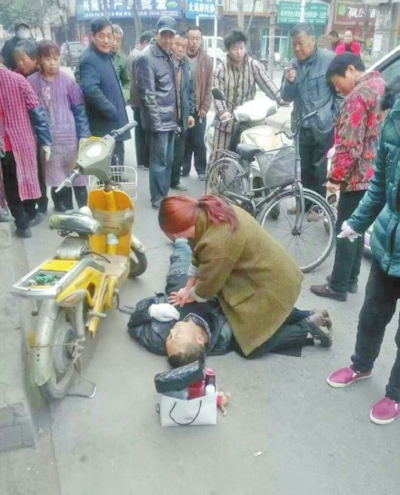10+: (1, 6, 397, 429)
down: (128, 225, 332, 387)
